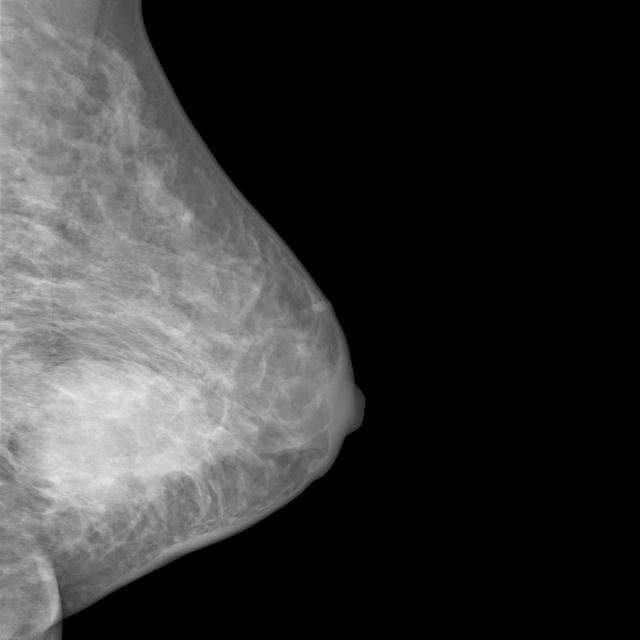Mass_1: (0, 318, 276, 540)
